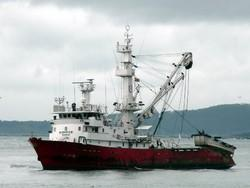otherboat: (25, 24, 238, 173)
